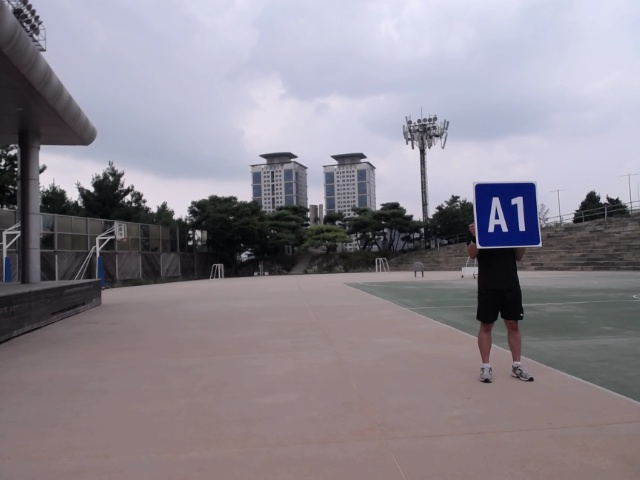delivery_a1: (474, 182, 541, 247)
